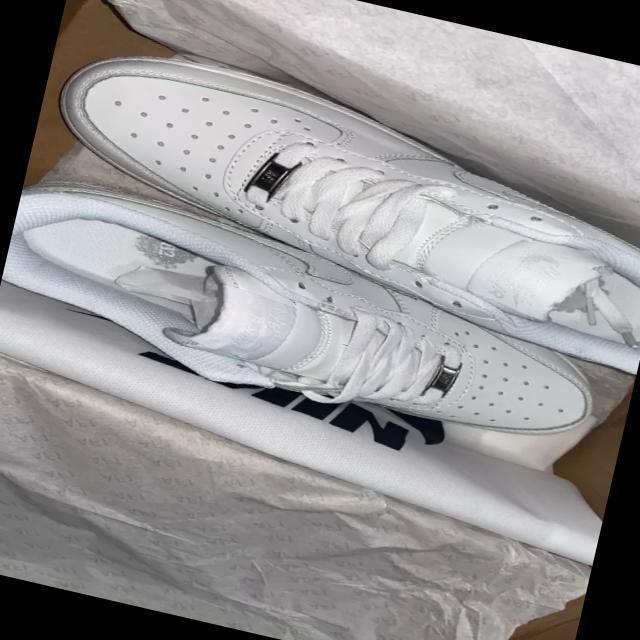nike fake air force: (32, 30, 640, 379), (0, 174, 620, 467)
